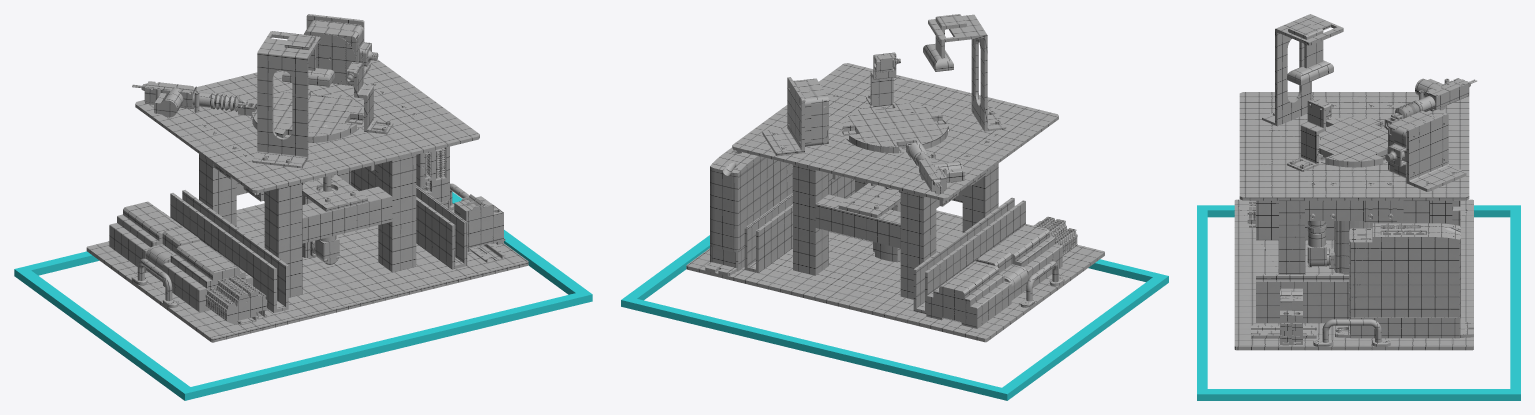
Rendered from mechanism kit with grid texture.fbx.
3 views of the same model, side by side, from view 1: azimuth 30°, elevation 25°; view 2: azimuth 150°, elevation 25°; view 3: azimuth 270°, elevation 25° (orthographic). The views are drawn at different scales.
Parts seen in each view (by area): view 1: test-kit asm - test-kit asm.stp-1 BASE-PLATE.stp-1, test-kit asm - test-kit asm.stp-1 PLATE-FOR-PERIPHERALS.stp-, test-kit asm - test-kit asm.stp-1 STAND-2 ASM.stp-1 LEG.stp-, Plane, test-kit asm - test-kit asm.stp-1 5340814CMMTASC23APNS1 ASM, test-kit asm - test-kit asm.stp-1 CAMER.stp-1, test-kit asm - test-kit asm.stp-1 RFID-ASM ASM.stp-1 CAD665., test-kit asm - test-kit asm.stp-1 MAGNET-GRIPPER.stp-1, test-kit asm - test-kit asm.stp-1 USONIC-SENSOR-ASM ASM.stp-, test-kit asm - test-kit asm.stp-1 UWANGF80 5 ASM.stp-2 SHFBS; view 2: test-kit asm - test-kit asm.stp-1 BASE-PLATE.stp-1, test-kit asm - test-kit asm.stp-1 PLATE-FOR-PERIPHERALS.stp-, test-kit asm - test-kit asm.stp-1 STAND-2 ASM.stp-1 LEG.stp-, test-kit asm - test-kit asm.stp-1 5340814CMMTASC23APNS1 ASM, Plane, test-kit asm - test-kit asm.stp-1 CAMER.stp-1, test-kit asm - test-kit asm.stp-1 RFID-ASM ASM.stp-1 CAD665., test-kit asm - test-kit asm.stp-1 MAGNET-GRIPPER.stp-1, test-kit asm - test-kit asm.stp-1 USONIC-SENSOR-ASM ASM.stp-, test-kit asm - test-kit asm.stp-1 UWANGF80 5 ASM.stp-2 SHFBS; view 3: test-kit asm - test-kit asm.stp-1 PLATE-FOR-PERIPHERALS.stp-, test-kit asm - test-kit asm.stp-1 5340814CMMTASC23APNS1 ASM, test-kit asm - test-kit asm.stp-1 BASE-PLATE.stp-1, Plane, test-kit asm - test-kit asm.stp-1 CAMER.stp-1, test-kit asm - test-kit asm.stp-1 STAND-2 ASM.stp-1 LEG.stp-, test-kit asm - test-kit asm.stp-1 MAGNET-GRIPPER.stp-1, test-kit asm - test-kit asm.stp-1 USONIC-SENSOR-ASM ASM.stp-, test-kit asm - test-kit asm.stp-1 RFID-ASM ASM.stp-1 CAD665., test-kit asm - test-kit asm.stp-1 UWANGF80 5 ASM.stp-2 SHFBS.
Boxes of the visible parts, x1,y1,x2,y2 form: test-kit asm - test-kit asm.stp-1 BASE-PLATE.stp-1: (86, 190, 528, 342); test-kit asm - test-kit asm.stp-1 PLATE-FOR-PERIPHERALS.stp-: (135, 14, 479, 264); test-kit asm - test-kit asm.stp-1 STAND-2 ASM.stp-1 LEG.stp-: (199, 154, 416, 297); Plane: (14, 192, 592, 400); test-kit asm - test-kit asm.stp-1 5340814CMMTASC23APNS1 ASM: (350, 146, 505, 269); test-kit asm - test-kit asm.stp-1 CAMER.stp-1: (252, 31, 334, 168); test-kit asm - test-kit asm.stp-1 RFID-ASM ASM.stp-1 CAD665.: (304, 20, 378, 85); test-kit asm - test-kit asm.stp-1 MAGNET-GRIPPER.stp-1: (132, 81, 257, 117); test-kit asm - test-kit asm.stp-1 USONIC-SENSOR-ASM ASM.stp-: (346, 62, 393, 134); test-kit asm - test-kit asm.stp-1 UWANGF80 5 ASM.stp-2 SHFBS: (131, 183, 469, 307); test-kit asm - test-kit asm.stp-1 BASE-PLATE.stp-1: (686, 197, 1104, 342); test-kit asm - test-kit asm.stp-1 PLATE-FOR-PERIPHERALS.stp-: (732, 63, 1058, 262); test-kit asm - test-kit asm.stp-1 STAND-2 ASM.stp-1 LEG.stp-: (793, 163, 998, 299); test-kit asm - test-kit asm.stp-1 5340814CMMTASC23APNS1 ASM: (705, 147, 854, 275); Plane: (621, 235, 1168, 400); test-kit asm - test-kit asm.stp-1 CAMER.stp-1: (923, 14, 1006, 131); test-kit asm - test-kit asm.stp-1 RFID-ASM ASM.stp-1 CAD665.: (793, 78, 828, 146); test-kit asm - test-kit asm.stp-1 MAGNET-GRIPPER.stp-1: (906, 142, 964, 194); test-kit asm - test-kit asm.stp-1 USONIC-SENSOR-ASM ASM.stp-: (866, 52, 900, 107); test-kit asm - test-kit asm.stp-1 UWANGF80 5 ASM.stp-2 SHFBS: (1020, 261, 1064, 307); test-kit asm - test-kit asm.stp-1 PLATE-FOR-PERIPHERALS.stp-: (1239, 92, 1469, 274); test-kit asm - test-kit asm.stp-1 5340814CMMTASC23APNS1 ASM: (1251, 223, 1473, 345); test-kit asm - test-kit asm.stp-1 BASE-PLATE.stp-1: (1234, 199, 1473, 350); Plane: (1197, 205, 1520, 400); test-kit asm - test-kit asm.stp-1 CAMER.stp-1: (1262, 14, 1343, 126); test-kit asm - test-kit asm.stp-1 STAND-2 ASM.stp-1 LEG.stp-: (1279, 200, 1429, 274); test-kit asm - test-kit asm.stp-1 MAGNET-GRIPPER.stp-1: (1384, 78, 1476, 129); test-kit asm - test-kit asm.stp-1 USONIC-SENSOR-ASM ASM.stp-: (1287, 99, 1331, 171); test-kit asm - test-kit asm.stp-1 RFID-ASM ASM.stp-1 CAD665.: (1385, 111, 1436, 178); test-kit asm - test-kit asm.stp-1 UWANGF80 5 ASM.stp-2 SHFBS: (1313, 319, 1390, 346).
Bounding box in the file's own units: 68.13 × 44.23 × 49.34.
2 materials, 1 textured.
